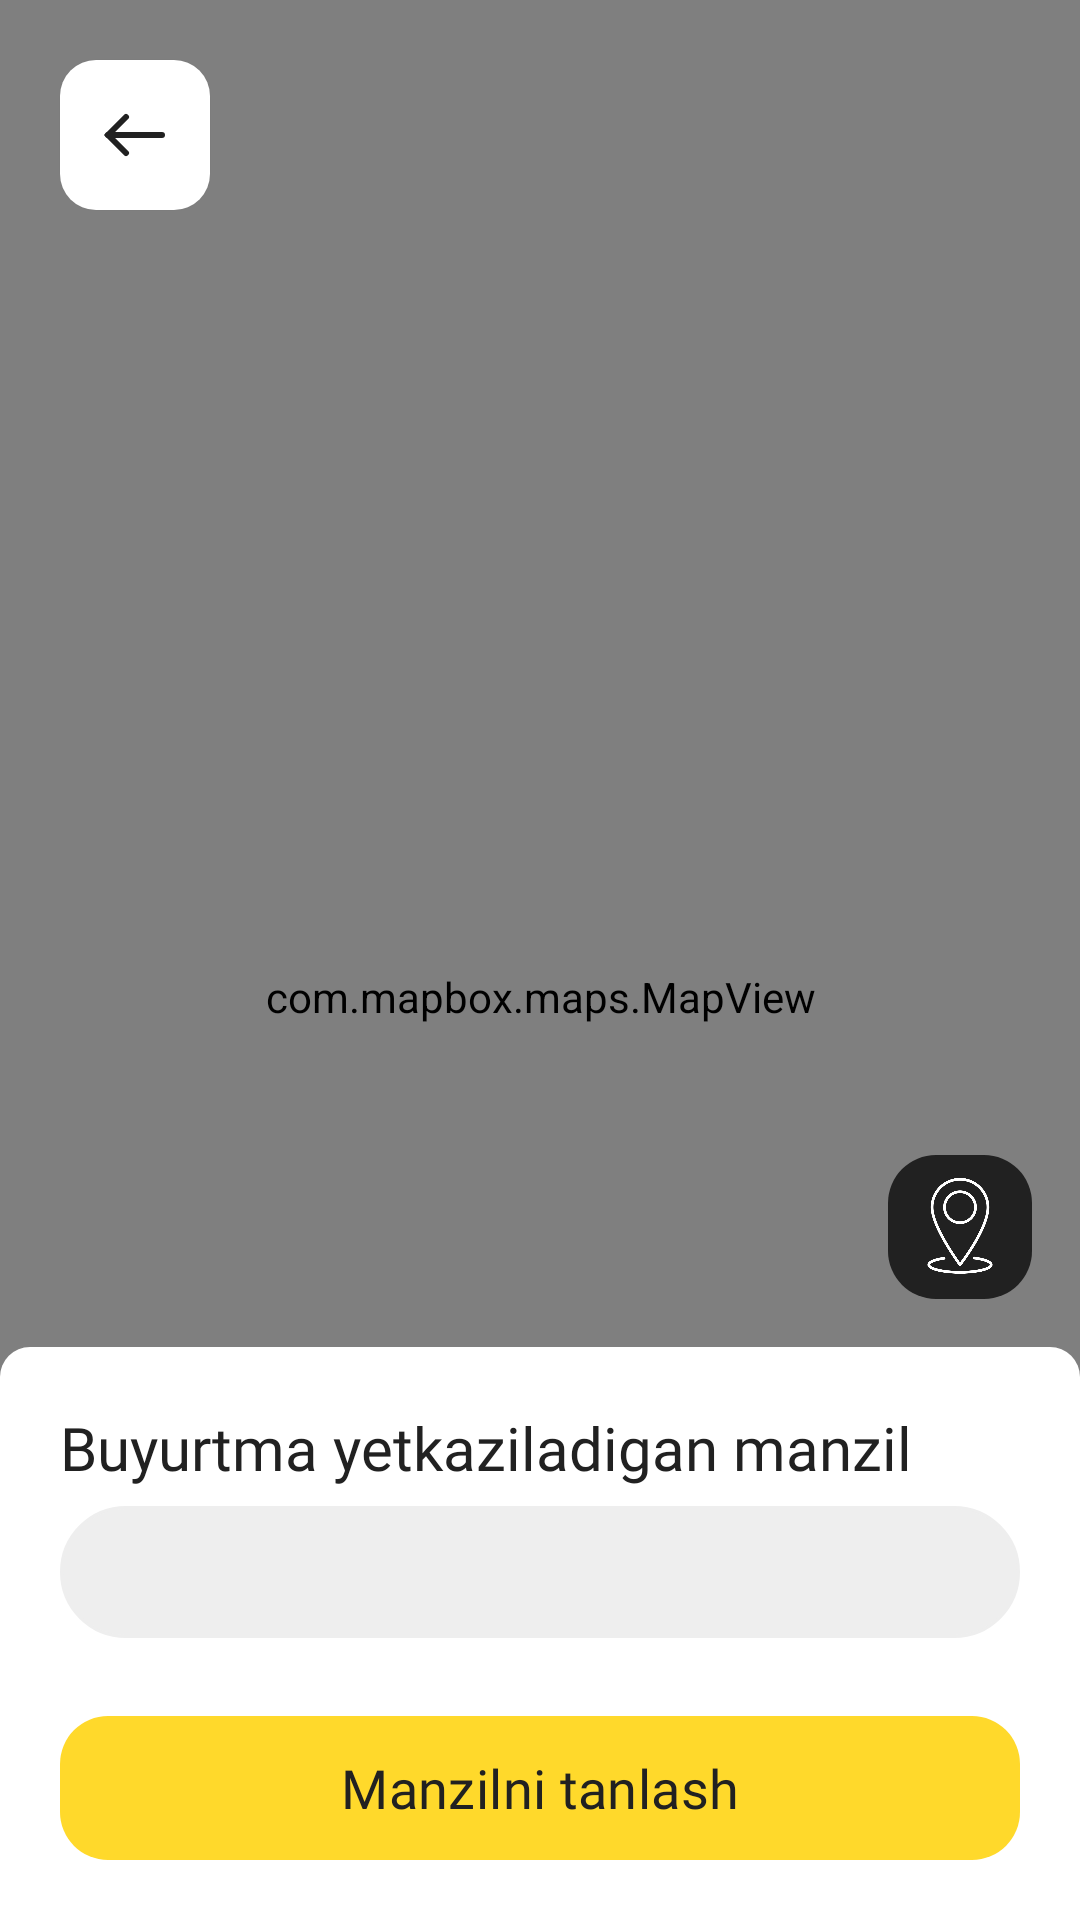

Named icons in this screenshot (1080 x 1920) and their centers, (x=x, y=y):
back: (x=134, y=135)
location: (x=960, y=1226)
